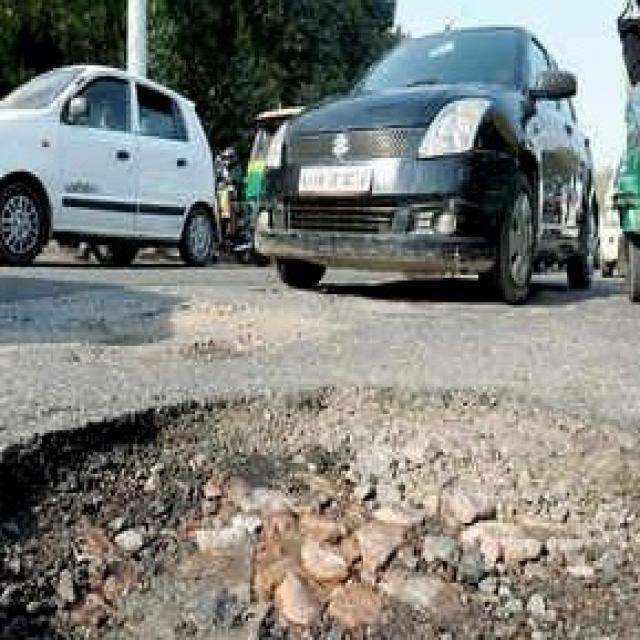road-pothole: (0, 378, 638, 637), (79, 288, 342, 365)
